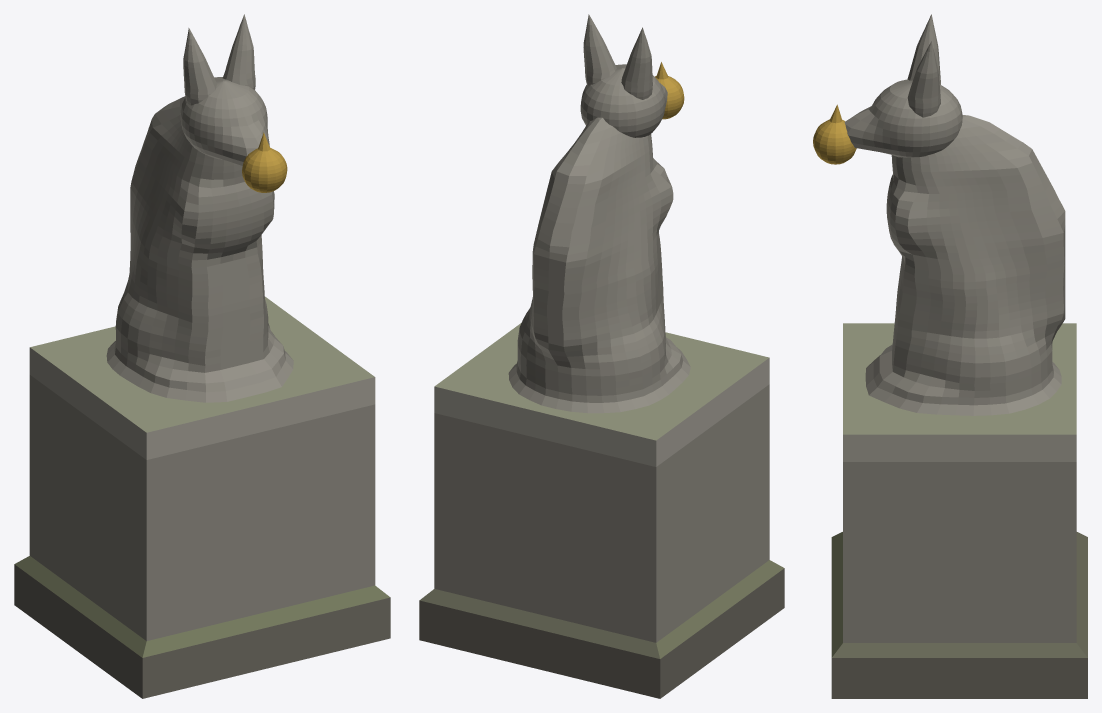
Rendered from Shrine_Fox_A_Col.fbx.
The picture shows the model from 3 angles, left to right: view 1: azimuth 30°, elevation 25°; view 2: azimuth 150°, elevation 25°; view 3: azimuth 270°, elevation 25°; orthographic projection. The views are drawn at different scales.
Parts seen in each view (by area): view 1: Shrine_Fox_A_Col; view 2: Shrine_Fox_A_Col; view 3: Shrine_Fox_A_Col.
Boxes of the visible parts, x1,y1,x2,y2 form: Shrine_Fox_A_Col: (14,14,390,698); Shrine_Fox_A_Col: (419,14,784,698); Shrine_Fox_A_Col: (813,14,1087,698).
Size of the model in its own units: 7.6 by 17.9 by 7.3.
